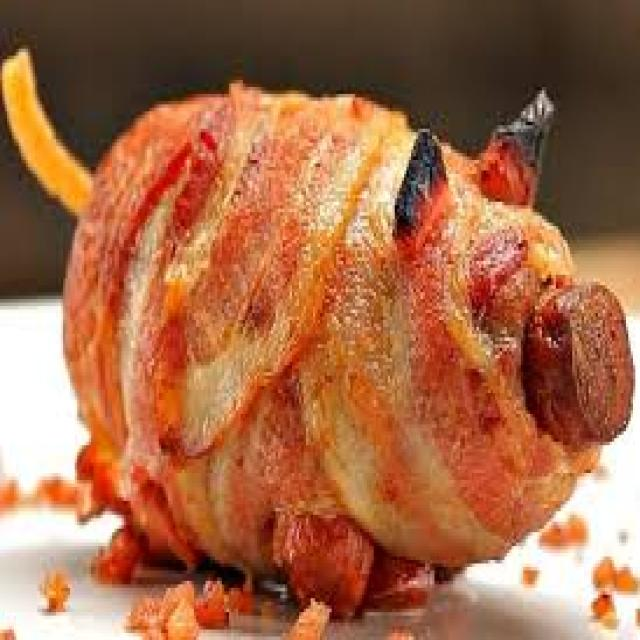wet: (39, 52, 607, 587)
